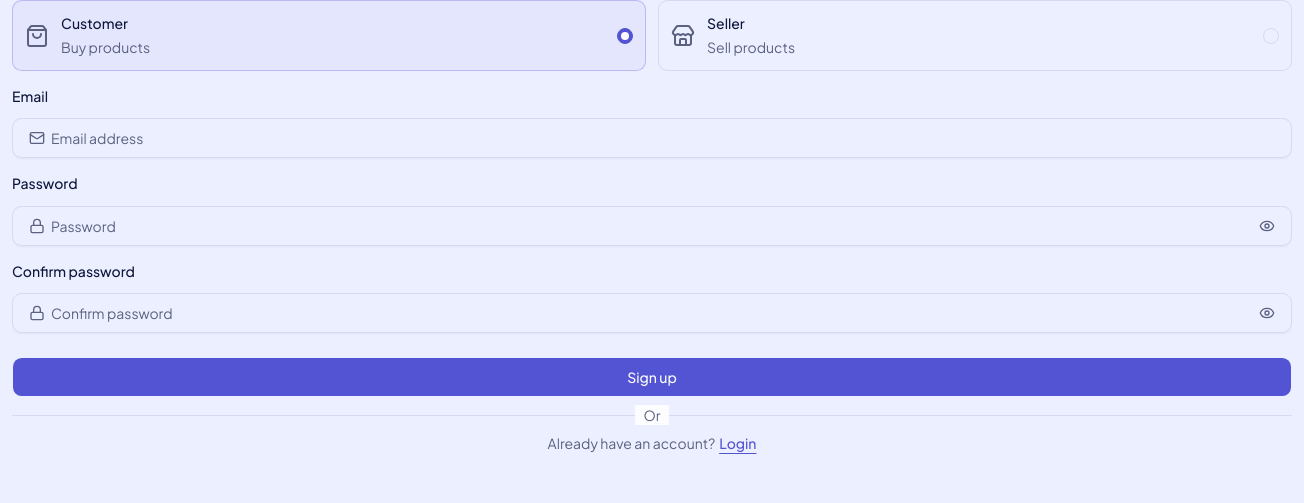
RegisterForm › password kurang dari 8 karakter: menampilkan pesan
Type "user@mail.com" into the field labelled "Email".
click(664, 138); type("user@mail.com")  # box left=45, top=120, right=1283, bottom=156
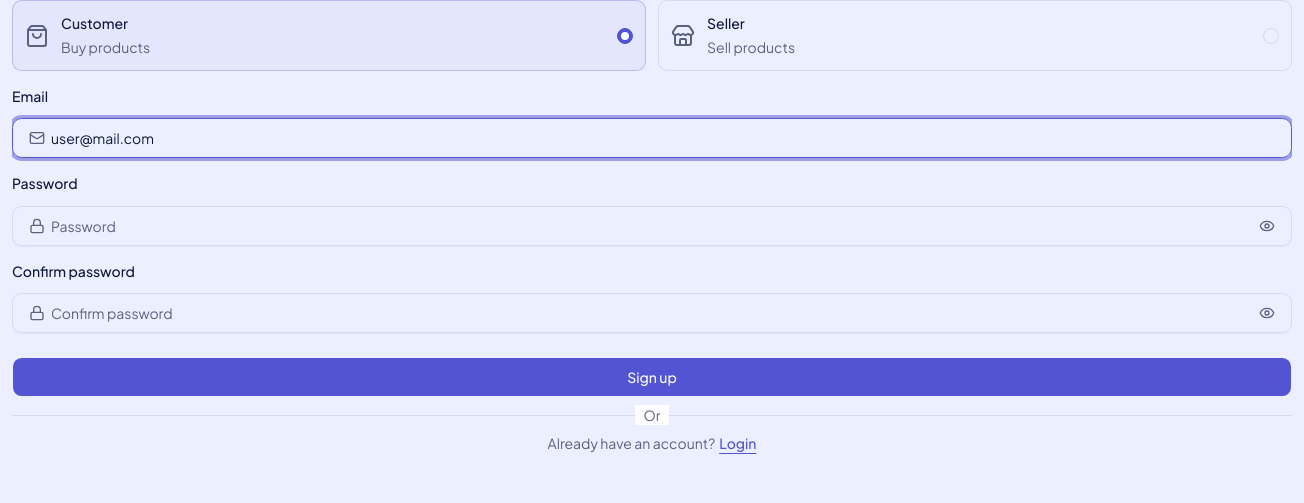
Type "short1" into the password field labelled "Password".
click(650, 226); type("short1")  # box left=45, top=208, right=1255, bottom=244
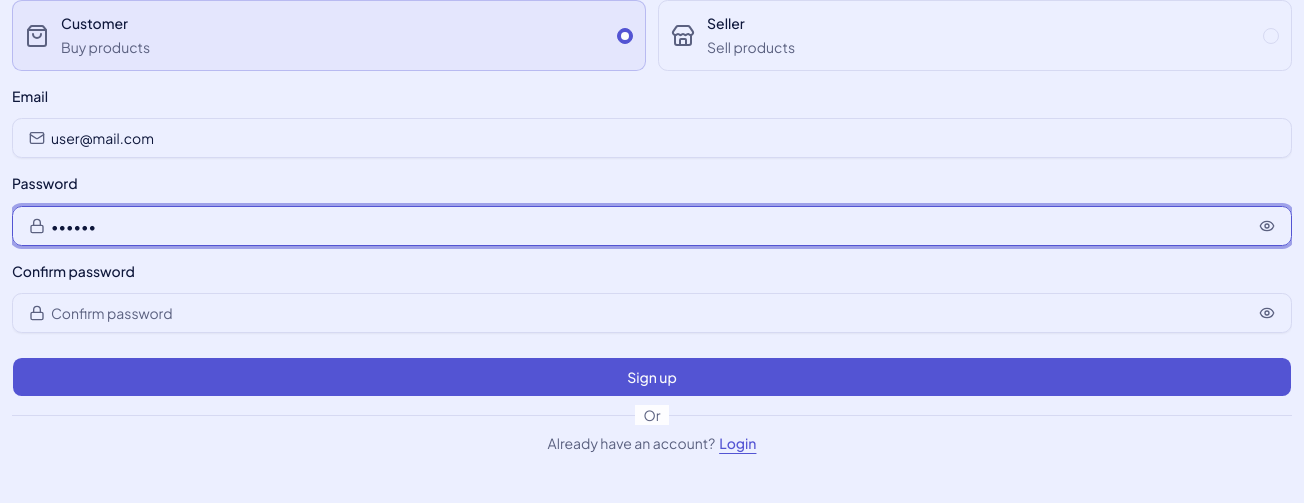
Type "short1" into the password field labelled "Confirm password".
click(650, 313); type("short1")  # box left=45, top=295, right=1255, bottom=331
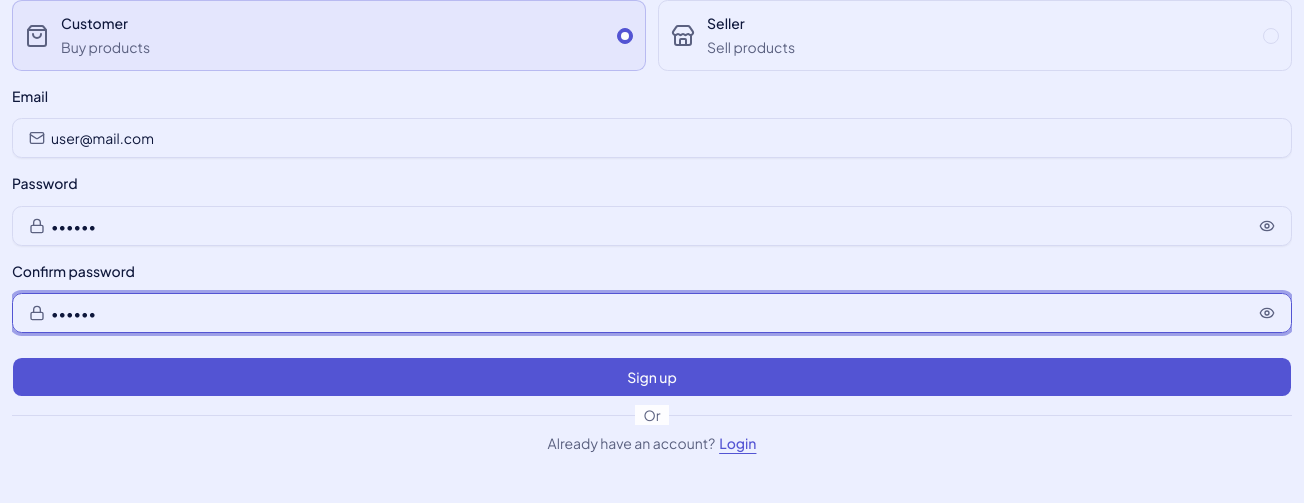
Click the button "Sign up".
click(652, 377)  # box left=12, top=357, right=1292, bottom=397
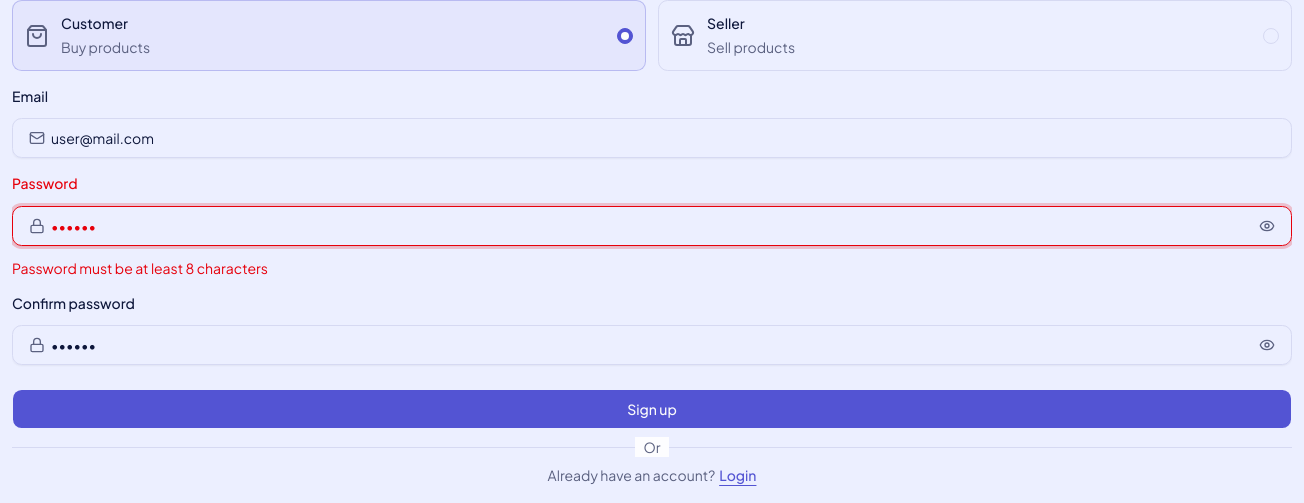
expect the text "Password must be at least 8 characters" is shown: met, box left=12, top=258, right=268, bottom=276
